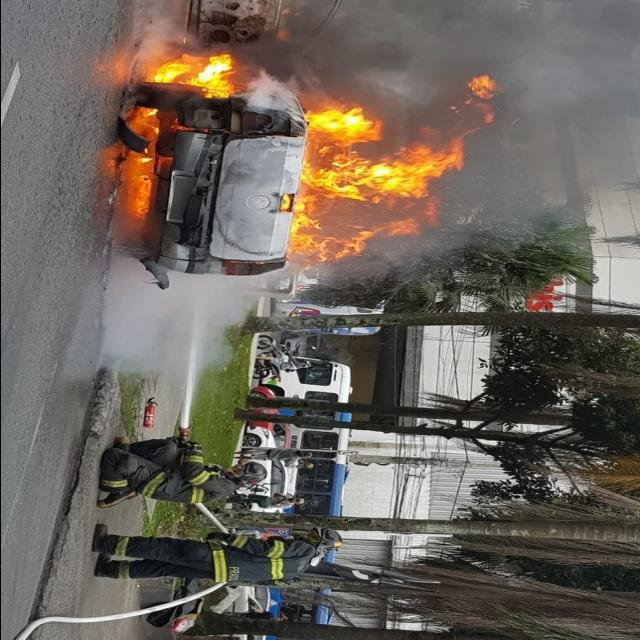Fire: (277, 74, 503, 268), (121, 55, 242, 224)
